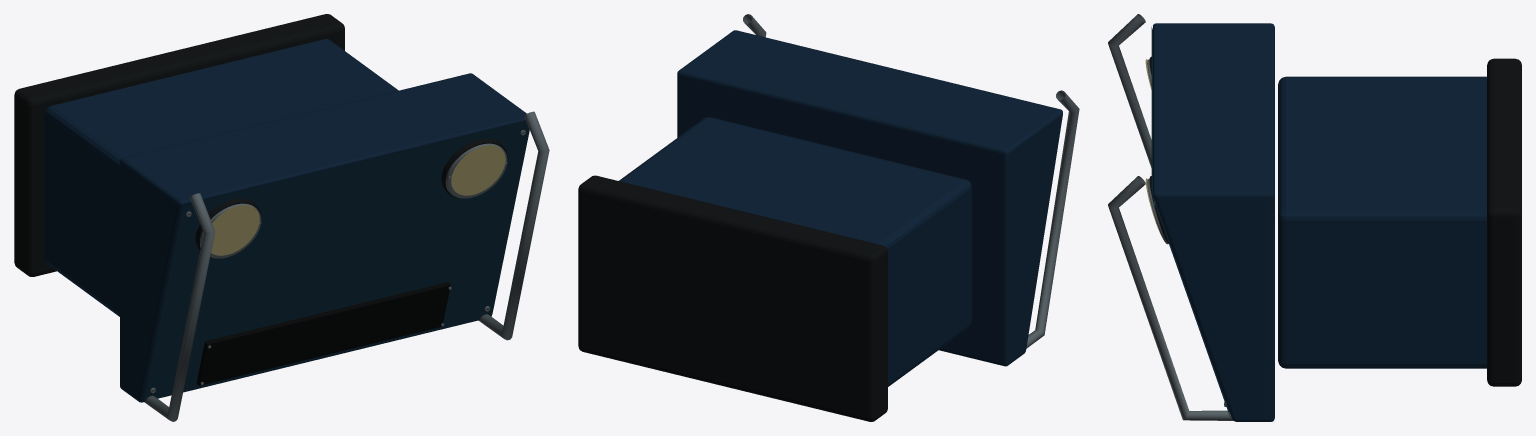
File: SM_WinchControlConsole.obj
3 renders of one model, left to right at view 1: azimuth 30°, elevation 25°; view 2: azimuth 150°, elevation 25°; view 3: azimuth 270°, elevation 25°, orthographic. The views are drawn at different scales.
Visible parts, largest first — view 1: SM_WinchControlConsole; view 2: SM_WinchControlConsole; view 3: SM_WinchControlConsole.
Part boxes in pixels (left/top/right/bottom): SM_WinchControlConsole: left=14, top=14, right=549, bottom=421; SM_WinchControlConsole: left=578, top=14, right=1079, bottom=421; SM_WinchControlConsole: left=1108, top=14, right=1521, bottom=421.
Size of the model in its own units: 128 by 84.92 by 131.
